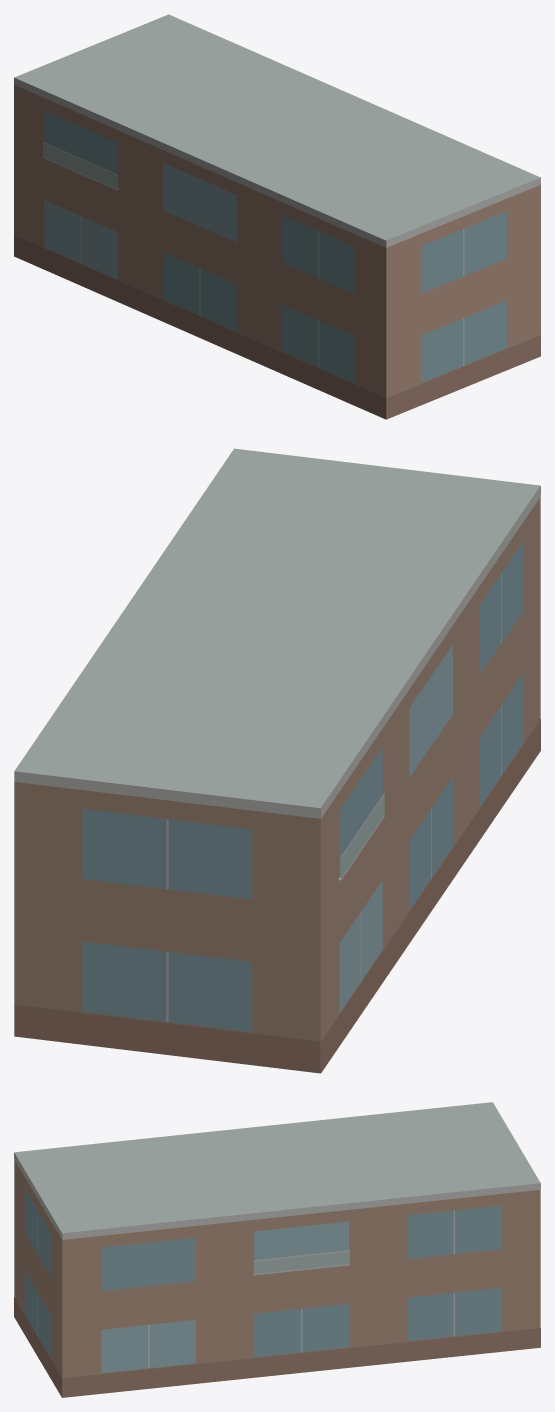
File: survey-upis-32710395.glb
3 views of the same model, one above another, from view 1: azimuth 30°, elevation 25°; view 2: azimuth 150°, elevation 25°; view 3: azimuth 270°, elevation 25° (orthographic). The views are drawn at different scales.
Visible parts, largest first — view 1: survey-upis-32710395.tmp; view 2: survey-upis-32710395.tmp; view 3: survey-upis-32710395.tmp.
Boxes of the visible parts, <box> form: survey-upis-32710395.tmp: <box>14,14,540,419</box>; survey-upis-32710395.tmp: <box>14,448,540,1073</box>; survey-upis-32710395.tmp: <box>14,1102,540,1397</box>.
Size of the model in its own units: 10.46 by 6.1 by 17.71.
